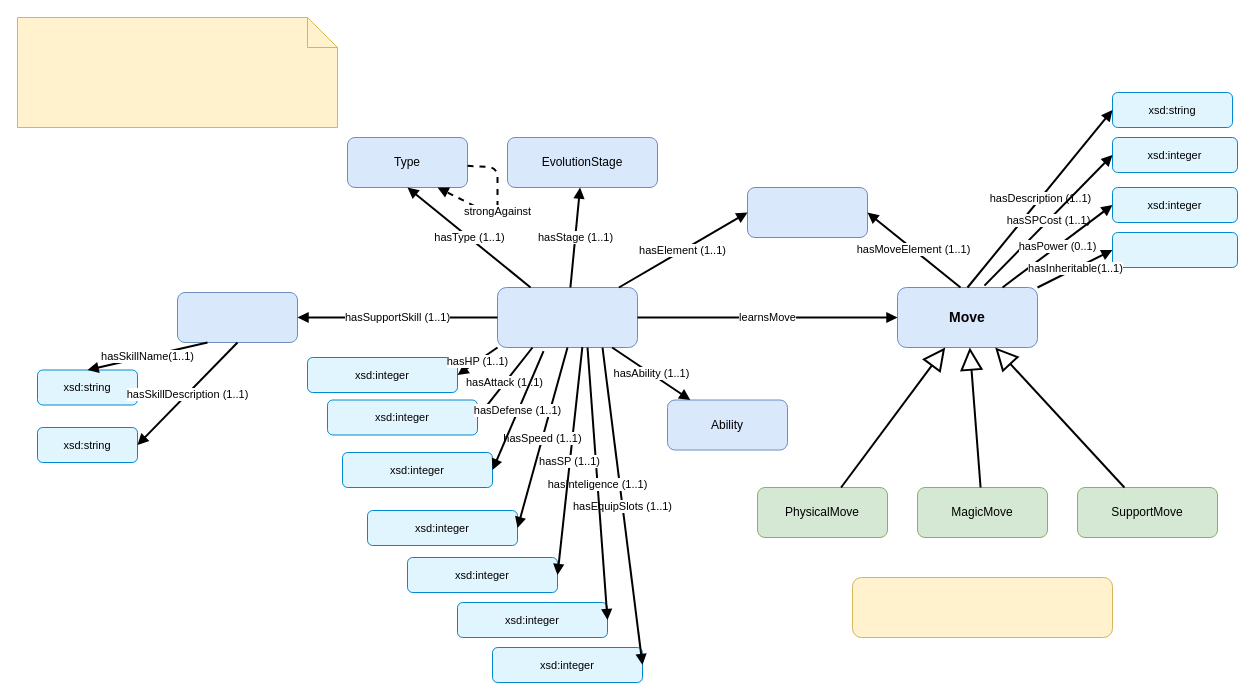
The diagram is 1255 pixels wide and 700 high, and some of its shapes have lost their labels. The box of each missing label's shape, as (x1, y1, x2, y2) in pixels:
Digimon: (496, 286, 638, 348)
Element: (746, 186, 868, 238)
ns: http://example.org/digimon# xsd : http://www.w3.org/2001/XMLSchema#: (16, 16, 338, 128)
PhysicalMove, MagicMove and SupportMove are disjoint subclasses of Move: (852, 576, 1112, 638)
SupportSkill: (176, 292, 298, 342)
xsd:boolean: (1112, 232, 1238, 268)
